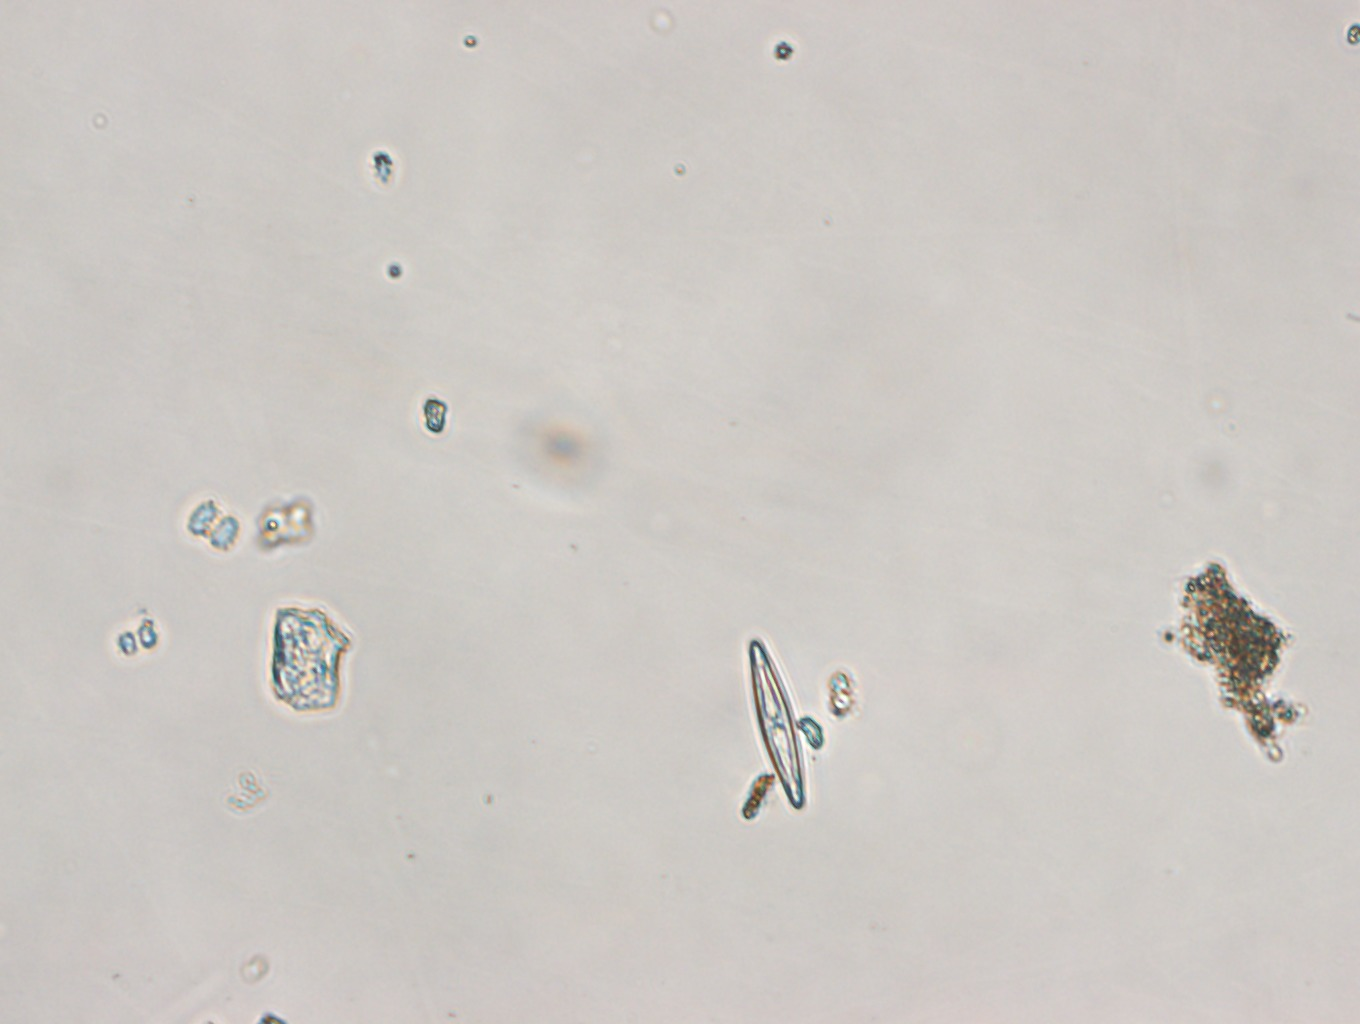dinophysis caudata: (1175, 556, 1316, 772)
navicula: (741, 640, 815, 817)
